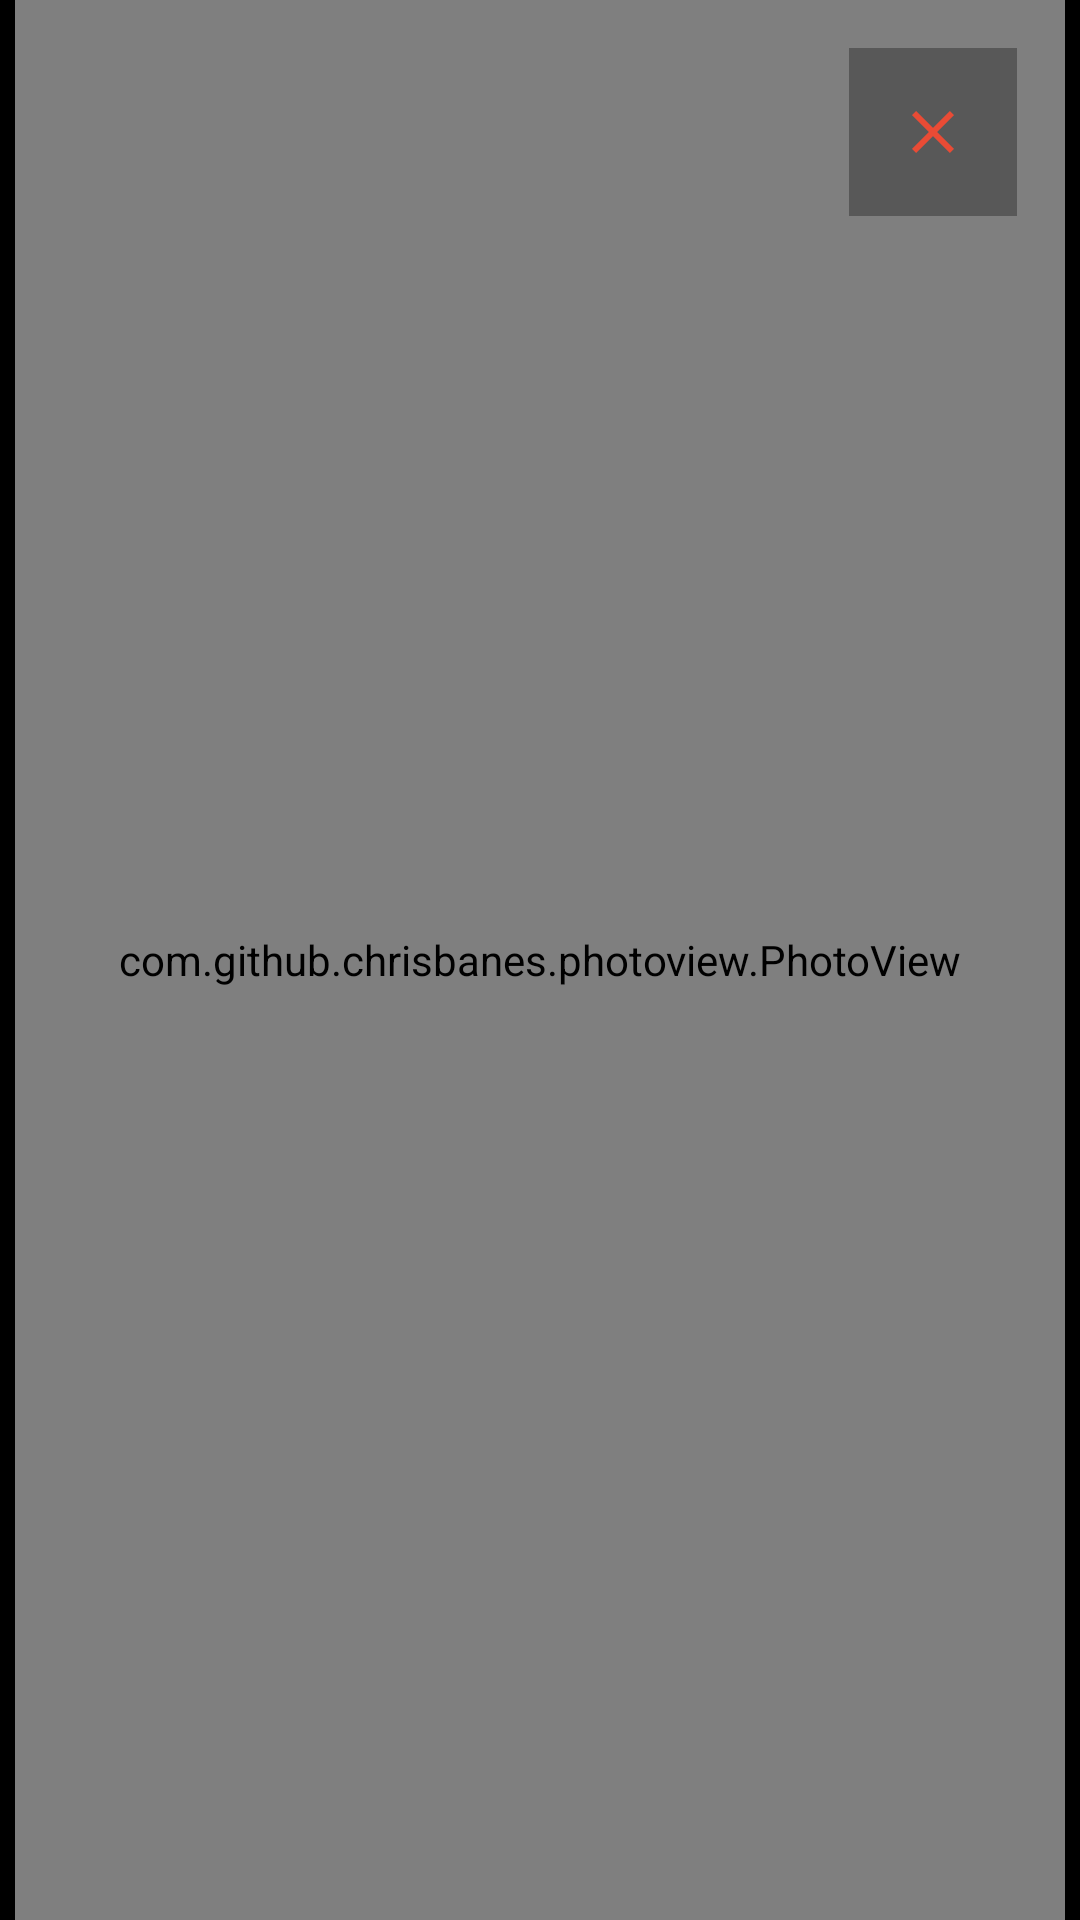

Icon click points for this 1080*1920 phone screenshot, format [x,y]:
close: [933,132]
